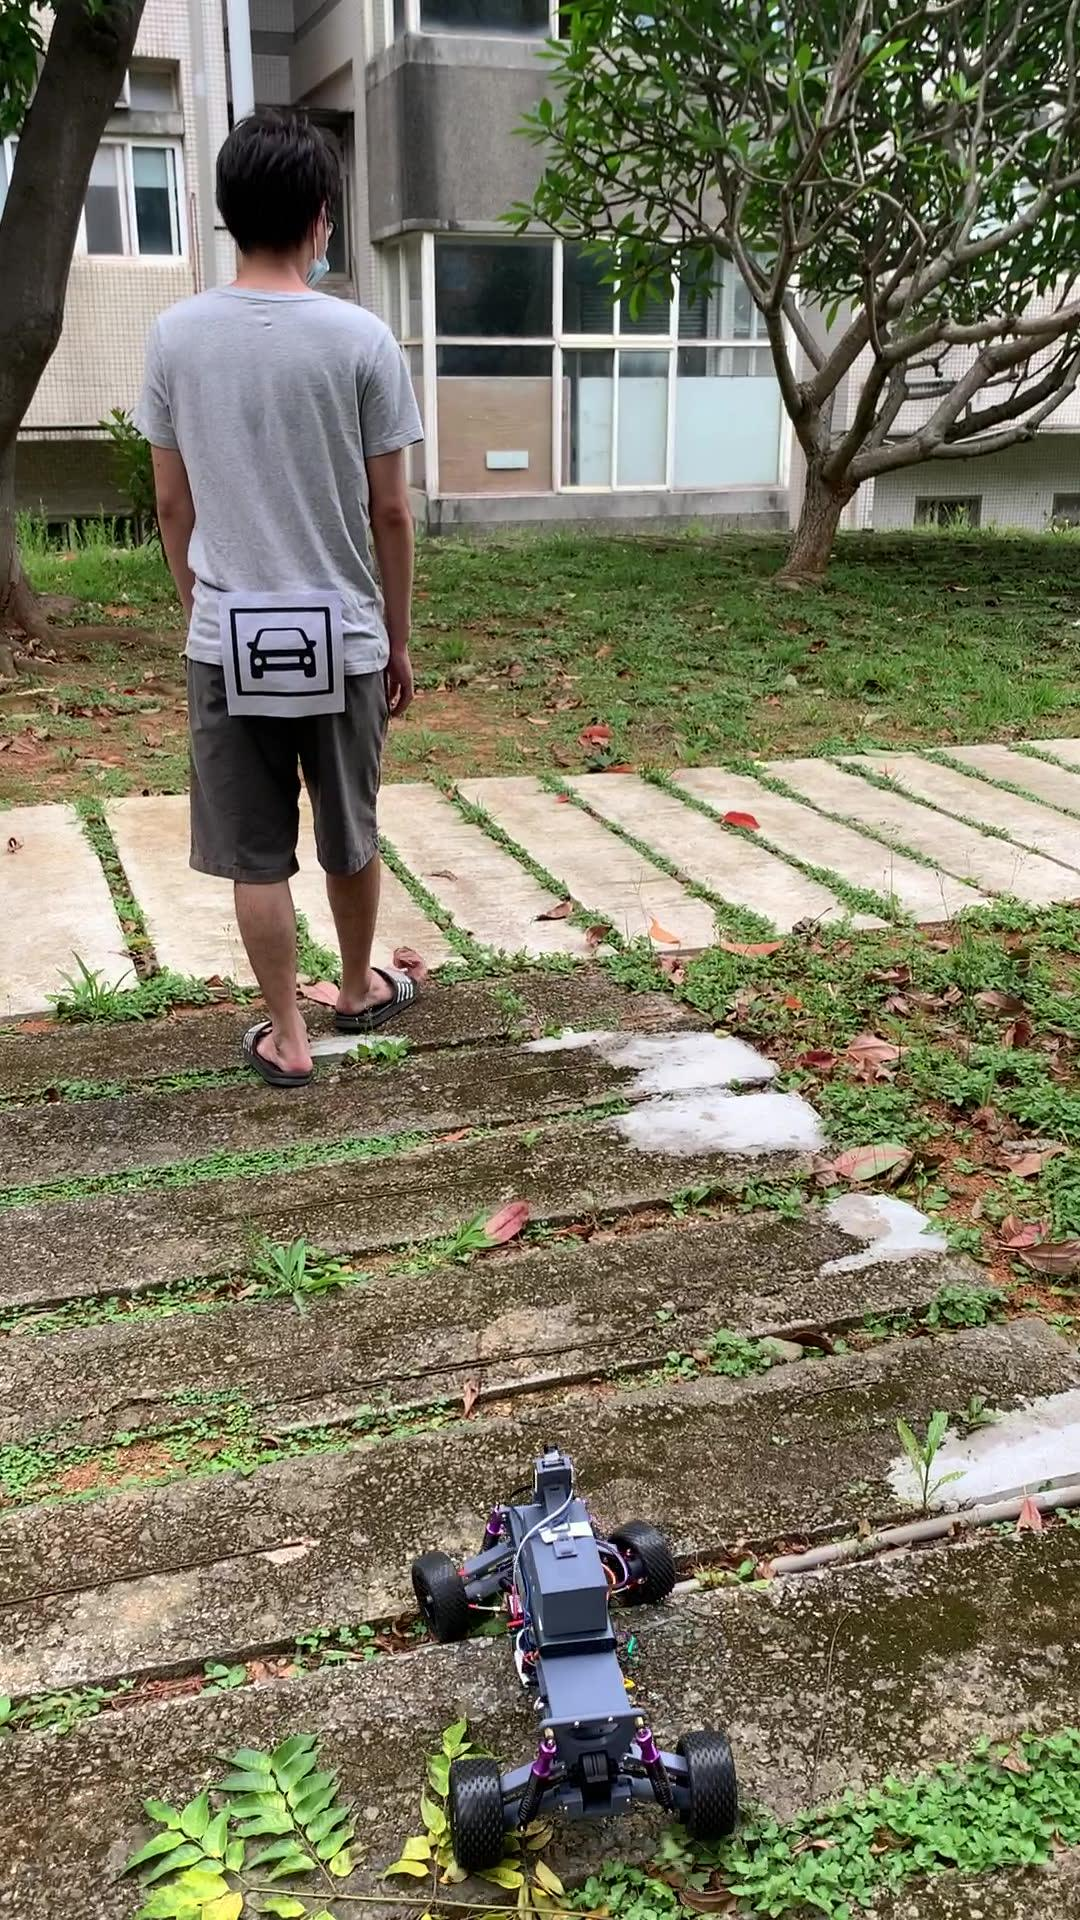car_img: (228, 607, 335, 698)
